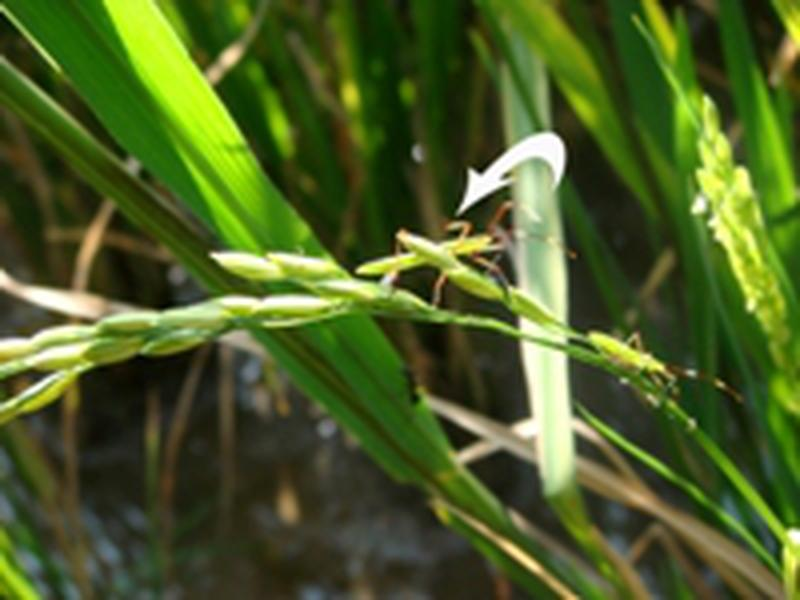Rice_earhead_bug: (335, 215, 674, 384)
